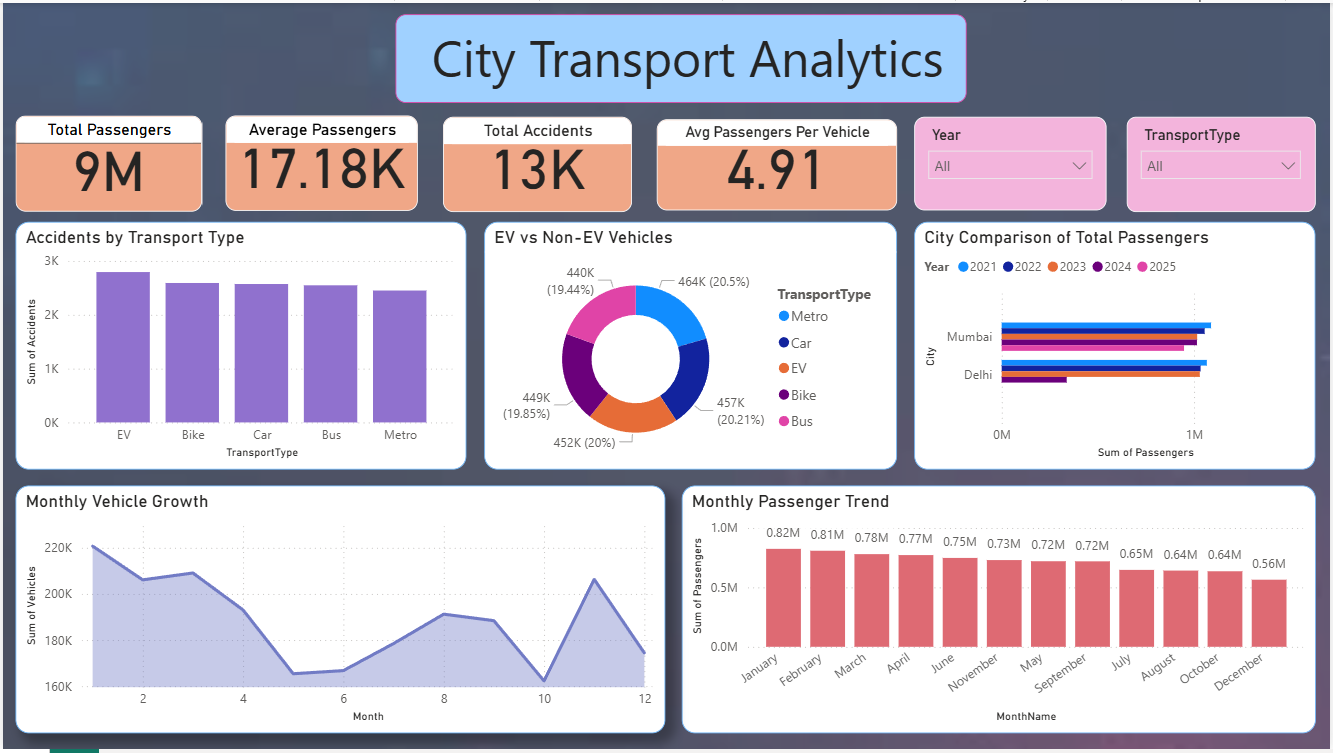

The dashboard page shown, as its layout file describes it:
{"tool":"powerbi","page":{"name":"Page 1","canvas":[1280,720],"ordinal":0},"visuals":[{"type":"textbox","box":[378.8,10.9,551.3,85.7],"z":0},{"type":"card","title":"Total Passengers","fields":{"Values":["Sum(Sheet1.Passengers)"]},"box":[12.1,108.6,179.8,92.9],"z":1000},{"type":"card","title":"Average Passengers","fields":{"Values":["Avg(Sheet1.Passengers)"]},"box":[214.7,108.6,185.8,91.7],"z":2000},{"type":"card","title":"Total Accidents","fields":{"Values":["Sum(Sheet1.Accidents)"]},"box":[424.7,109.8,182.2,91.7],"z":3000},{"type":"card","title":"Avg Passengers Per Vehicle","fields":{"Values":["Avg(Sheet1.Passengers_per_Vehicle)"]},"box":[631,112.2,231.6,88.1],"z":4000},{"type":"slicer","fields":{"Values":["Sheet1.Year"]},"box":[879.5,109.8,185.8,90.5],"z":5000},{"type":"slicer","fields":{"Values":["Sheet1.TransportType"]},"box":[1084.6,109.8,182.2,91.7],"z":6000},{"type":"lineStackedColumnComboChart","title":"Monthly Passenger Trend","fields":{"Category":["Sheet1.MonthName"],"Y":["Sum(Sheet1.Passengers)"]},"box":[655.1,465.7,611.7,238.9],"z":7000},{"type":"areaChart","title":"Monthly Vehicle Growth","fields":{"Category":["Sheet1.Month"],"Y":["Sum(Sheet1.Vehicles)"]},"box":[12.1,465.7,627.3,238.9],"z":8000},{"type":"lineClusteredColumnComboChart","title":"Accidents by Transport Type","fields":{"Category":["Sheet1.TransportType"],"Y":["Sum(Sheet1.Accidents)"]},"box":[12.1,211.1,435.5,238.9],"z":9000},{"type":"donutChart","title":"EV vs Non-EV Vehicles","fields":{"Category":["Sheet1.TransportType"],"Y":["Sum(Sheet1.Vehicles)"]},"box":[464.5,211.1,398.1,238.9],"z":10000},{"type":"clusteredBarChart","title":"City Comparison of Total Passengers","fields":{"Y":["Sum(Sheet1.Passengers)"],"Category":["Sheet1.City"],"Series":["Sheet1.Year"]},"box":[879.5,211.1,387.3,238.9],"z":11000}]}

Visuals, with their boxes in screenshot pixels (x1, y1, x2, y2), scaled from the page's 1280x720 canvas onto the 1333x753 screenshot:
textbox: {"x1": 394, "y1": 11, "x2": 969, "y2": 101}
"Total Passengers" card: {"x1": 13, "y1": 114, "x2": 200, "y2": 211}
"Average Passengers" card: {"x1": 224, "y1": 114, "x2": 417, "y2": 209}
"Total Accidents" card: {"x1": 442, "y1": 115, "x2": 632, "y2": 211}
"Avg Passengers Per Vehicle" card: {"x1": 657, "y1": 117, "x2": 898, "y2": 209}
slicer - Sheet1.Year: {"x1": 916, "y1": 115, "x2": 1109, "y2": 209}
slicer - Sheet1.TransportType: {"x1": 1130, "y1": 115, "x2": 1319, "y2": 211}
"Monthly Passenger Trend" lineStackedColumnComboChart: {"x1": 682, "y1": 487, "x2": 1319, "y2": 737}
"Monthly Vehicle Growth" areaChart: {"x1": 13, "y1": 487, "x2": 666, "y2": 737}
"Accidents by Transport Type" lineClusteredColumnComboChart: {"x1": 13, "y1": 221, "x2": 466, "y2": 471}
"EV vs Non-EV Vehicles" donutChart: {"x1": 484, "y1": 221, "x2": 898, "y2": 471}
"City Comparison of Total Passengers" clusteredBarChart: {"x1": 916, "y1": 221, "x2": 1319, "y2": 471}
